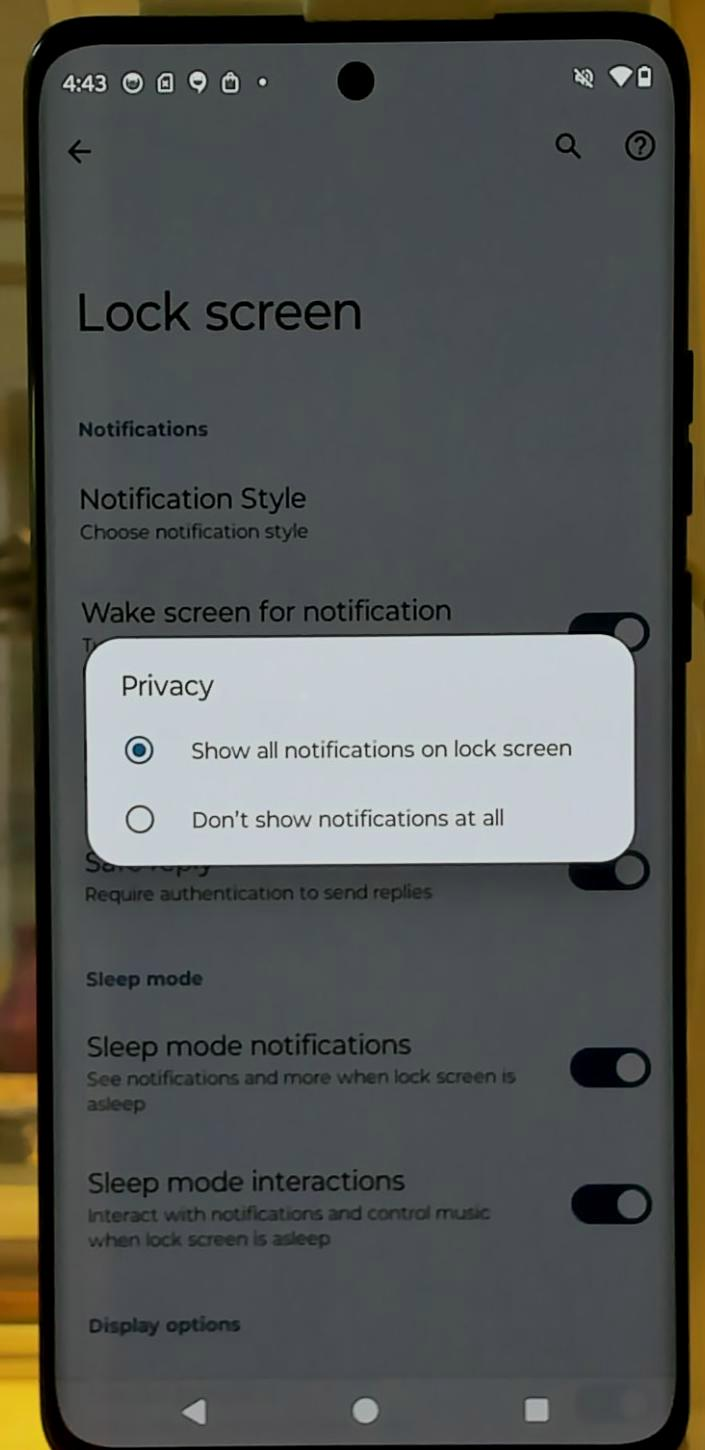RadioButton: (111, 728, 579, 775), (117, 795, 513, 842)
